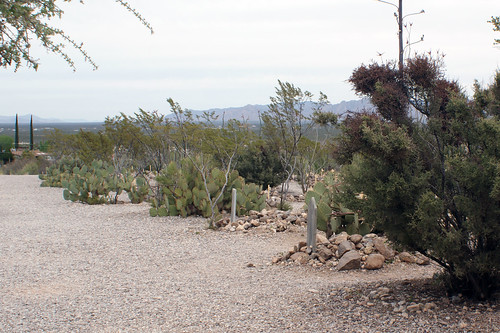sky: (41, 1, 390, 110)
vegetation: (59, 83, 500, 254)
